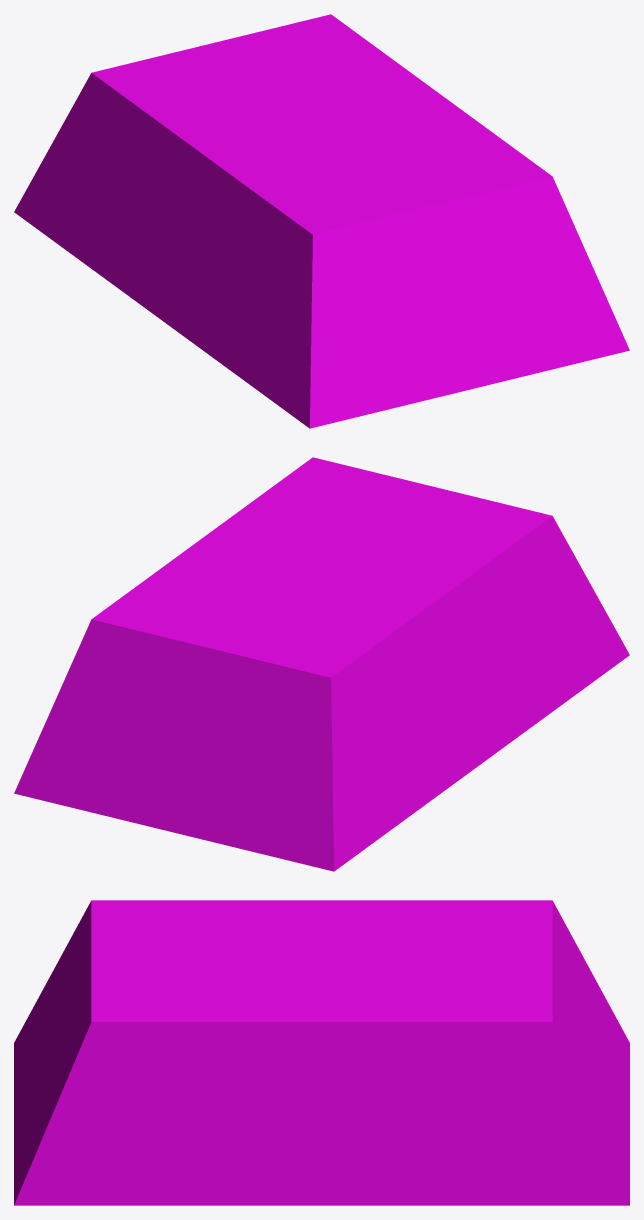
File: Button.fbx
The picture shows the model from 3 angles, top to bottom: view 1: azimuth 30°, elevation 25°; view 2: azimuth 150°, elevation 25°; view 3: azimuth 270°, elevation 25°; orthographic projection. The views are drawn at different scales.
Parts seen in each view (by area): view 1: Button4; view 2: Button4; view 3: Button4.
Boxes of the visible parts, x1,y1,x2,y2 form: Button4: (14,14,629,428); Button4: (14,457,629,871); Button4: (14,900,629,1205).
Size of the model in its own units: 21.26 by 9.95 by 34.02.
